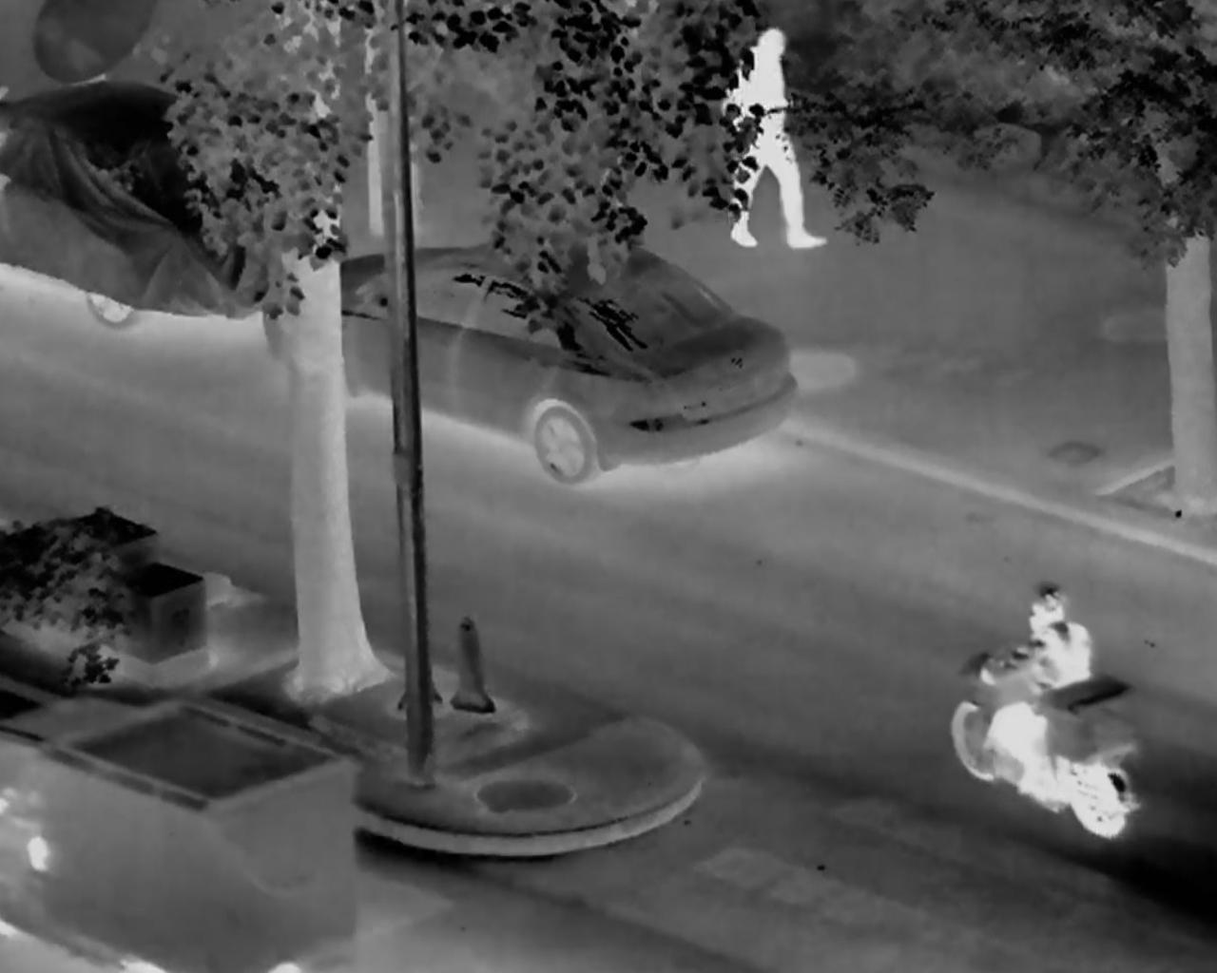person: (718, 29, 826, 253), (979, 582, 1090, 785)
